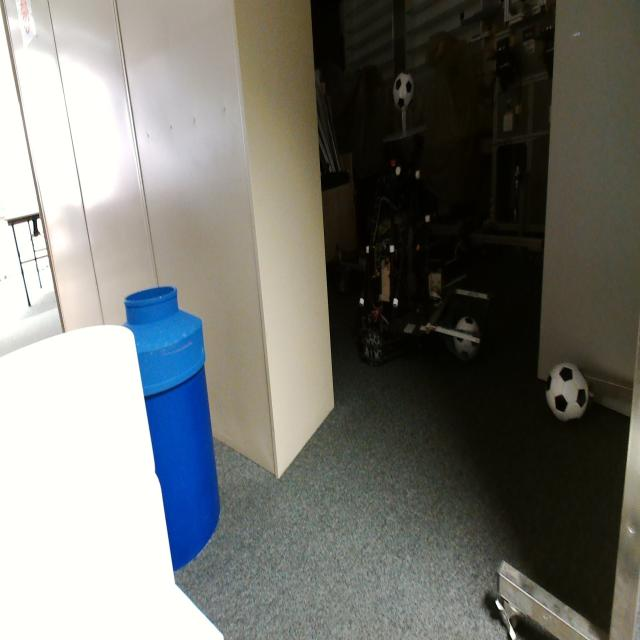ball: (546, 361, 589, 423), (455, 318, 482, 362), (394, 69, 415, 112)
